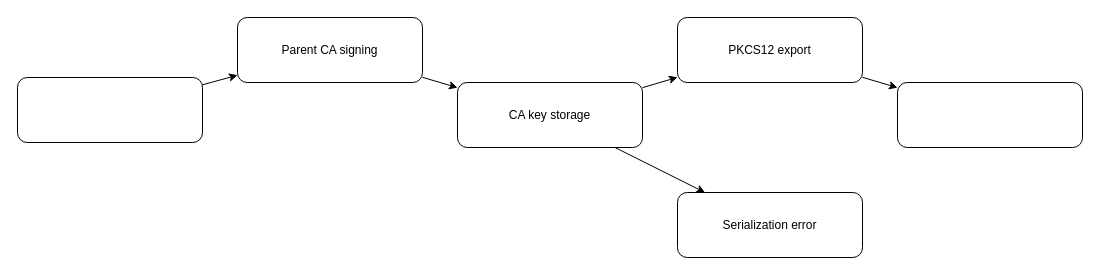
Some shapes in this 1100 by 275 pixel diagram are drawn without their labels. Here are the shapes that lost their labels. From the top down, the centre of each, then its label:
At (x=109, y=109): "Intermediate CSR".
At (x=989, y=115): "Downstream issuer".
